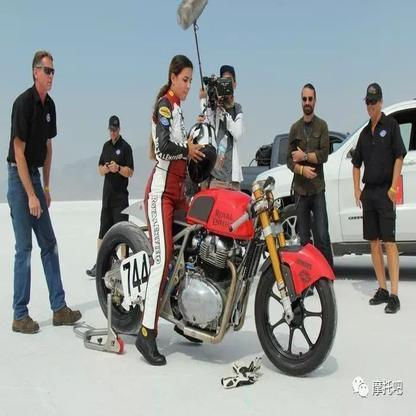target: (95, 54, 337, 379)
